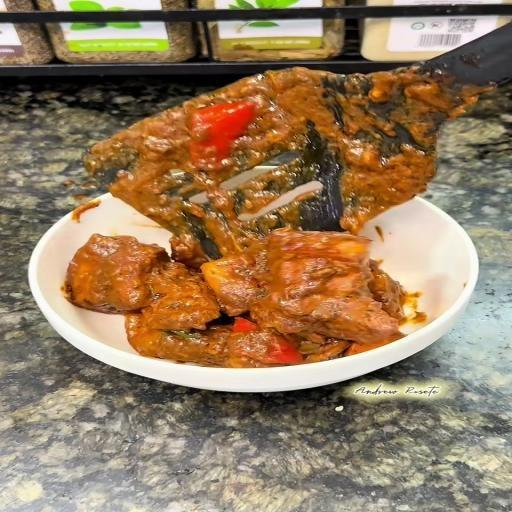pork caldereta: (64, 230, 407, 370)
